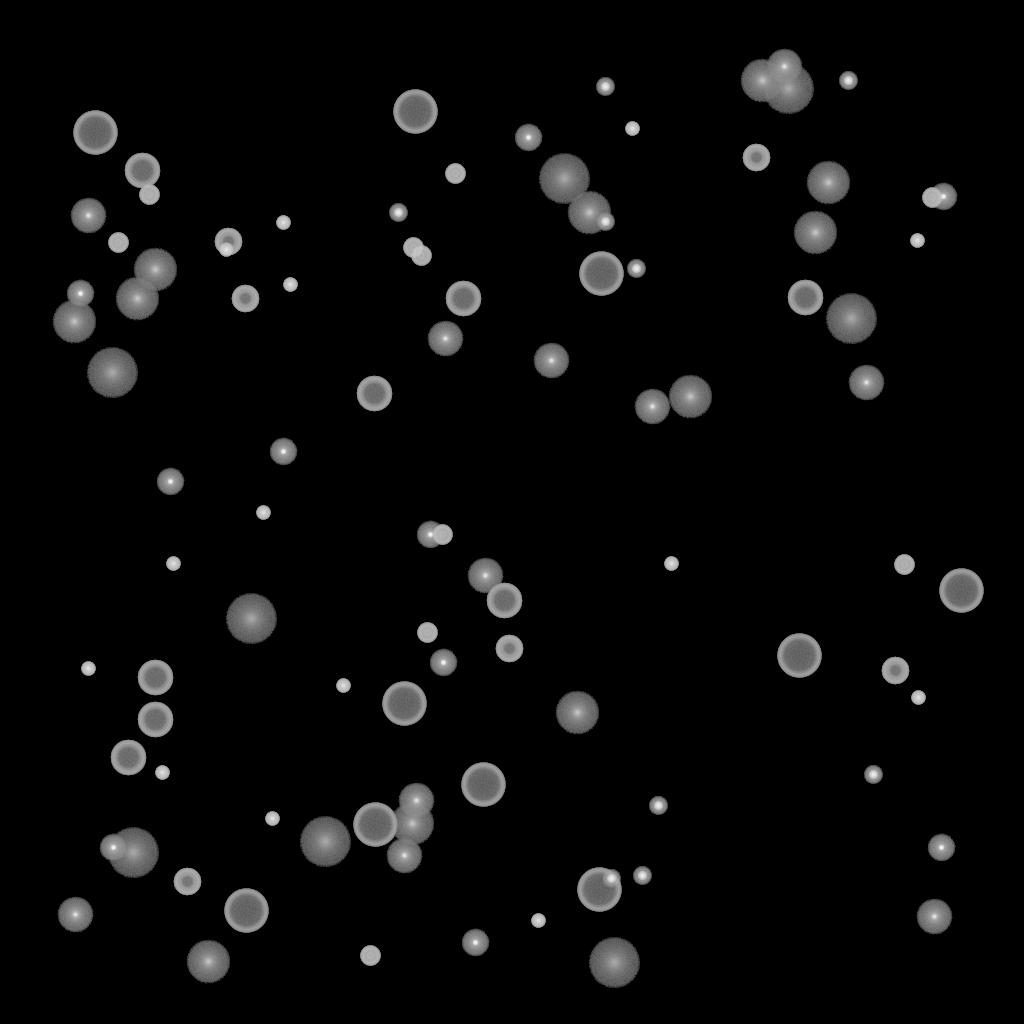depth:-10: (416, 521, 444, 549), (514, 124, 542, 152), (461, 929, 489, 957), (929, 183, 957, 211), (429, 649, 457, 677), (927, 834, 955, 862), (99, 834, 127, 862), (156, 468, 184, 496), (66, 280, 94, 308), (269, 438, 297, 466)
depth:-20: (627, 260, 645, 278), (633, 867, 651, 885), (602, 870, 620, 888), (596, 213, 614, 231), (596, 78, 614, 96), (864, 766, 882, 784), (389, 204, 407, 222), (839, 72, 857, 90), (649, 797, 667, 815)
depth:-30: (625, 122, 639, 136), (283, 278, 297, 292), (531, 914, 545, 928), (664, 557, 678, 571), (265, 812, 279, 826), (910, 234, 924, 248), (256, 506, 270, 520), (336, 679, 350, 693), (81, 662, 95, 676), (166, 557, 180, 571), (911, 691, 925, 705), (155, 766, 169, 780), (219, 243, 233, 257), (276, 216, 290, 230)
depth:-40: (894, 555, 914, 575), (432, 525, 452, 545), (922, 188, 942, 208), (445, 164, 465, 184), (403, 238, 423, 258), (411, 246, 431, 266), (139, 185, 159, 205), (360, 946, 380, 966), (108, 233, 128, 253), (417, 623, 437, 643)
depth:-50: (495, 635, 523, 663), (214, 228, 242, 256), (231, 285, 259, 313), (881, 657, 909, 685), (742, 144, 770, 172), (173, 868, 201, 896)
depth:-60: (356, 376, 392, 412), (124, 153, 160, 189), (787, 280, 823, 316), (137, 660, 173, 696), (137, 702, 173, 738), (110, 740, 146, 776), (445, 281, 481, 317), (486, 583, 522, 619)
depth:-70: (579, 252, 623, 296), (382, 682, 426, 726), (777, 634, 821, 678), (939, 569, 983, 613), (224, 889, 268, 933), (577, 868, 621, 912), (353, 803, 397, 847), (73, 111, 117, 155), (393, 90, 437, 134), (461, 763, 505, 807)
depth:0: (398, 783, 434, 819), (634, 389, 670, 425), (57, 897, 93, 933), (70, 198, 106, 234), (386, 838, 422, 874), (848, 365, 884, 401), (766, 49, 802, 85), (533, 343, 569, 379), (916, 899, 952, 935), (427, 321, 463, 357), (467, 558, 503, 594)
depth:10: (806, 161, 850, 205), (567, 191, 611, 235), (793, 211, 837, 255), (555, 691, 599, 735), (133, 248, 177, 292), (740, 59, 784, 103), (52, 300, 96, 344), (115, 277, 159, 321), (390, 802, 434, 846), (668, 375, 712, 419), (186, 940, 230, 984)
depth:20: (225, 594, 277, 644), (107, 828, 159, 878), (538, 154, 590, 204), (588, 938, 640, 988), (86, 348, 138, 398), (299, 817, 351, 867), (825, 294, 877, 344), (762, 64, 814, 114)
